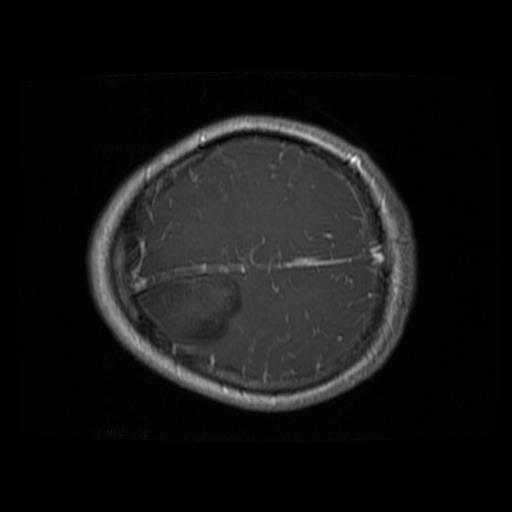glioma: (142, 273, 240, 344)
